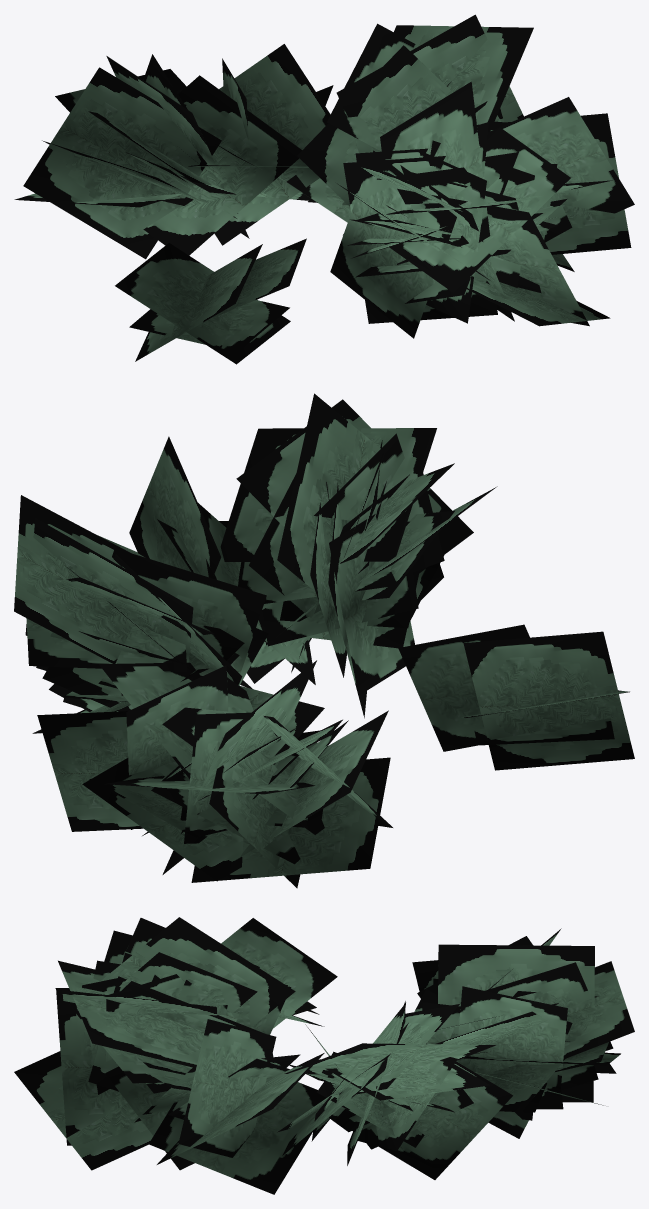
The model's file is juniper_1_mid.glb.
The picture shows the model from 3 angles, top to bottom: view 1: azimuth 30°, elevation 25°; view 2: azimuth 150°, elevation 25°; view 3: azimuth 270°, elevation 25°; orthographic projection. The views are drawn at different scales.
Visible parts, largest first — view 1: juniper_1_mid; view 2: juniper_1_mid; view 3: juniper_1_mid.
Part boxes in pixels (<box>): juniper_1_mid: <box>14,14,634,364</box>; juniper_1_mid: <box>14,393,634,888</box>; juniper_1_mid: <box>14,917,634,1194</box>.
Bounding box in the file's own units: 3.48 × 1.63 × 3.97.
1 material, 1 textured.
